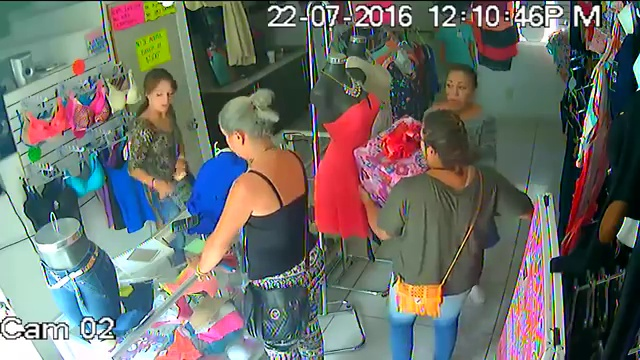face: (444, 76, 473, 104), (151, 85, 172, 109)
